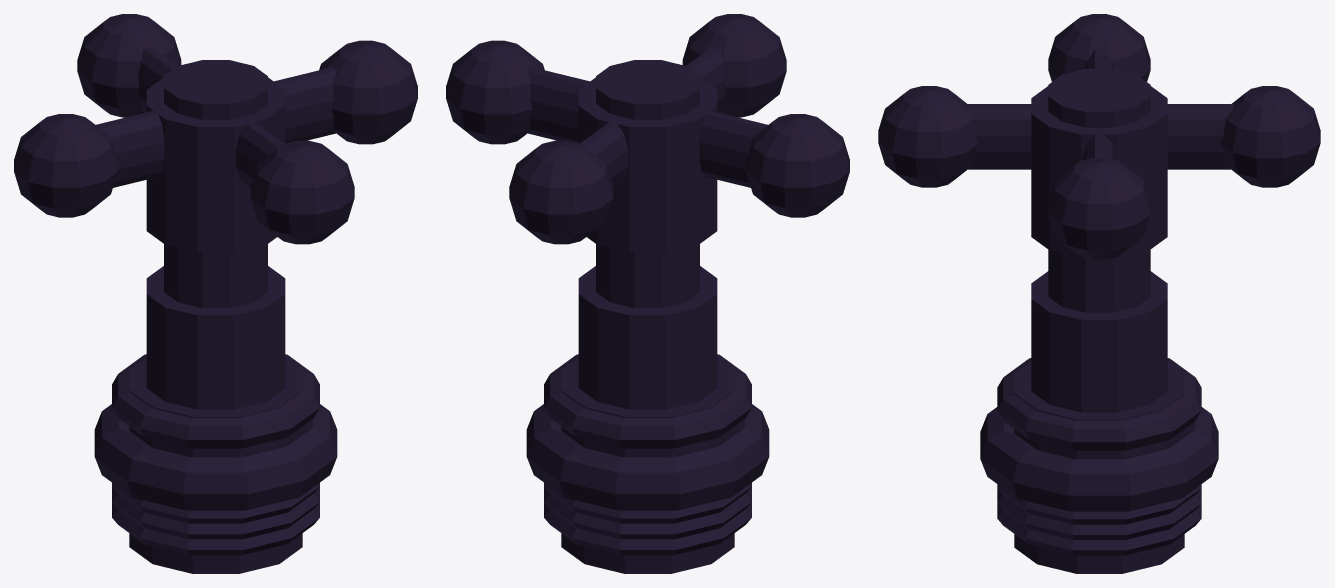
The model's file is Peca_torneira.obj.
The picture shows the model from 3 angles, left to right: view 1: azimuth 30°, elevation 25°; view 2: azimuth 150°, elevation 25°; view 3: azimuth 270°, elevation 25°; orthographic projection.
Parts seen in each view (by area): view 1: cylinder, sphere, torus; view 2: cylinder, sphere, torus; view 3: cylinder, torus, sphere.
Boxes of the visible parts, <box> form: cylinder: <box>96,46,336,573</box>; sphere: <box>14,14,417,244</box>; torus: <box>94,354,337,555</box>; cylinder: <box>527,46,767,573</box>; sphere: <box>446,14,849,244</box>; torus: <box>526,354,769,555</box>; cylinder: <box>965,49,1233,573</box>; torus: <box>980,358,1218,555</box>; sphere: <box>878,14,1320,259</box>.
Size of the model in its own units: 0.1625 by 0.1813 by 0.1625.
1 material, 1 textured.
